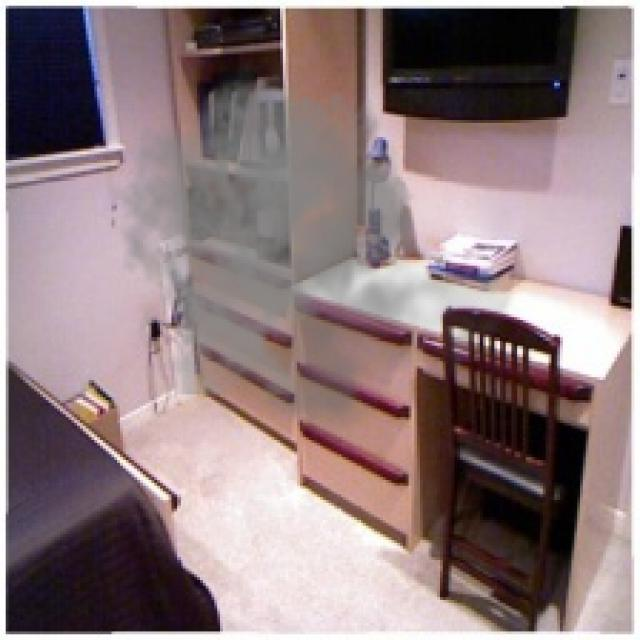Smoke: (111, 51, 520, 443)
